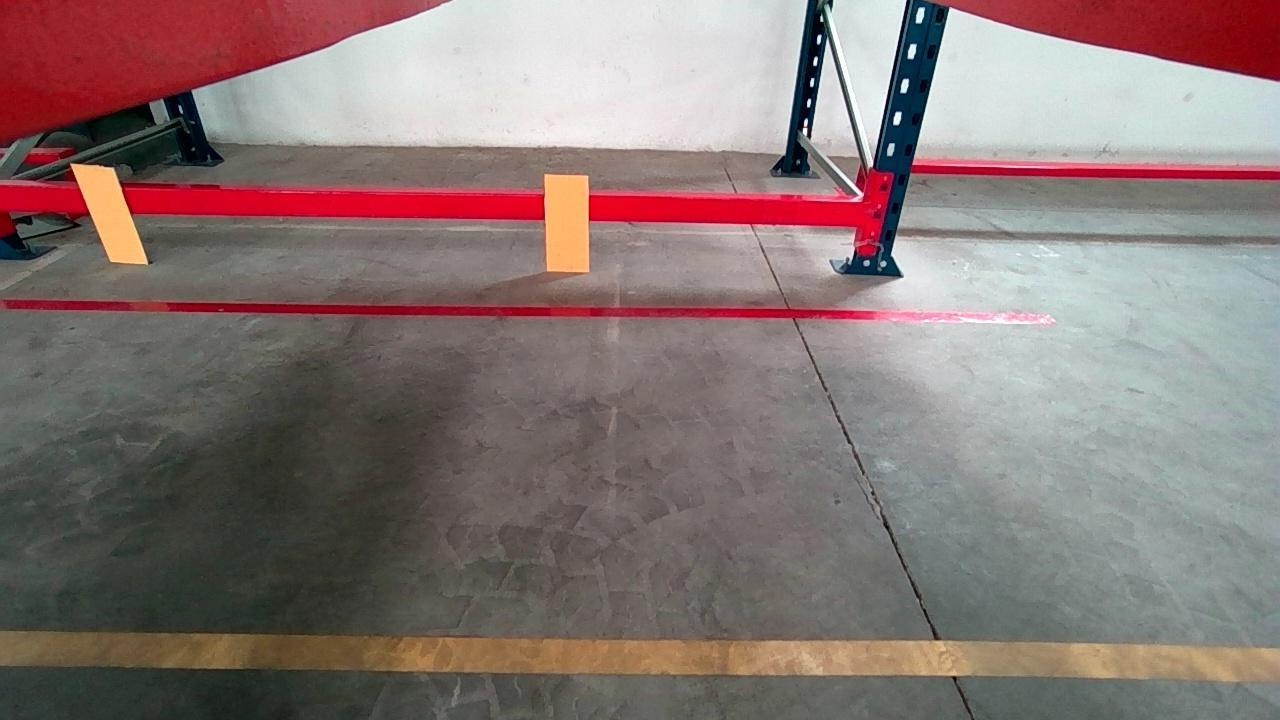h_rack: (0, 182, 875, 226)
orange_strip: (67, 164, 146, 261), (543, 170, 588, 274)
red_line: (0, 297, 1054, 324)
yellow_line: (0, 630, 1280, 681)
